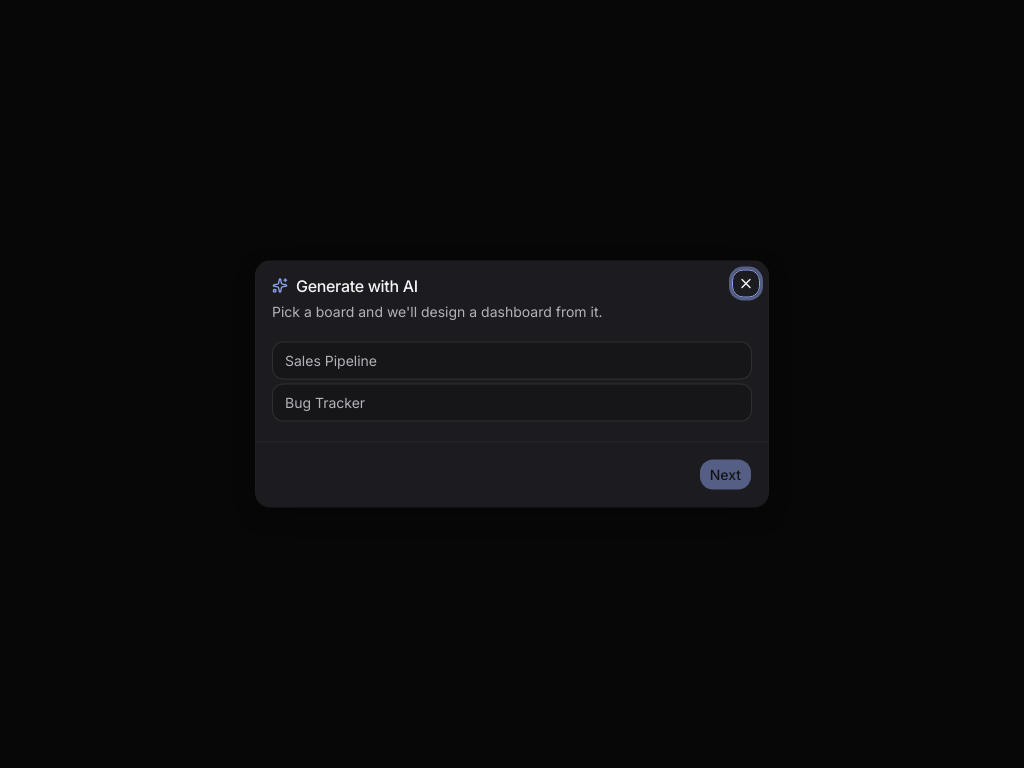
AiDashboardWizard › gates Generate behind board selection and the approval step
Expected: the text "Sales Pipeline" is shown, [285,350,377,370]
Expected: the button "Next" is disabled, [699,458,752,490]
Click the radio button "Sales Pipeline": (331, 360) [272,342,752,380]
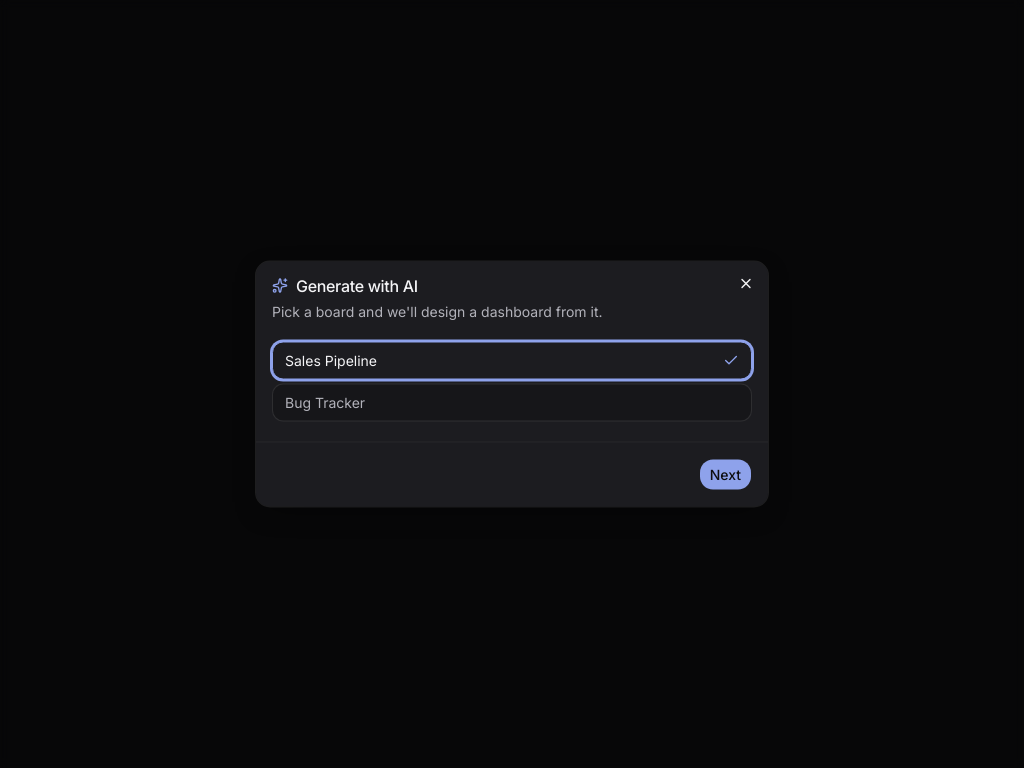
Expected: the button "Next" is enabled
Click the button "Next": (725, 474) [699,458,752,490]
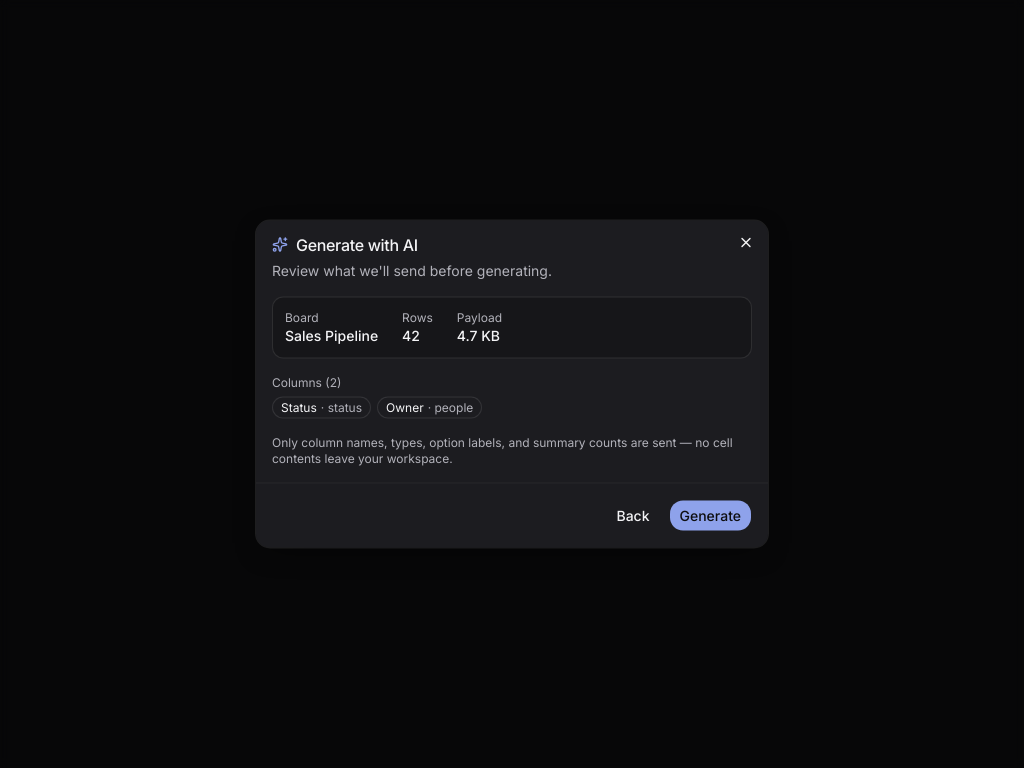
Expected: the text "Only column names, types, option labels, and summary counts are sent — no cell contents leave your workspace." is shown, [272,434,733,466]
Expected: the button "Generate" is shown, [668,500,752,532]
